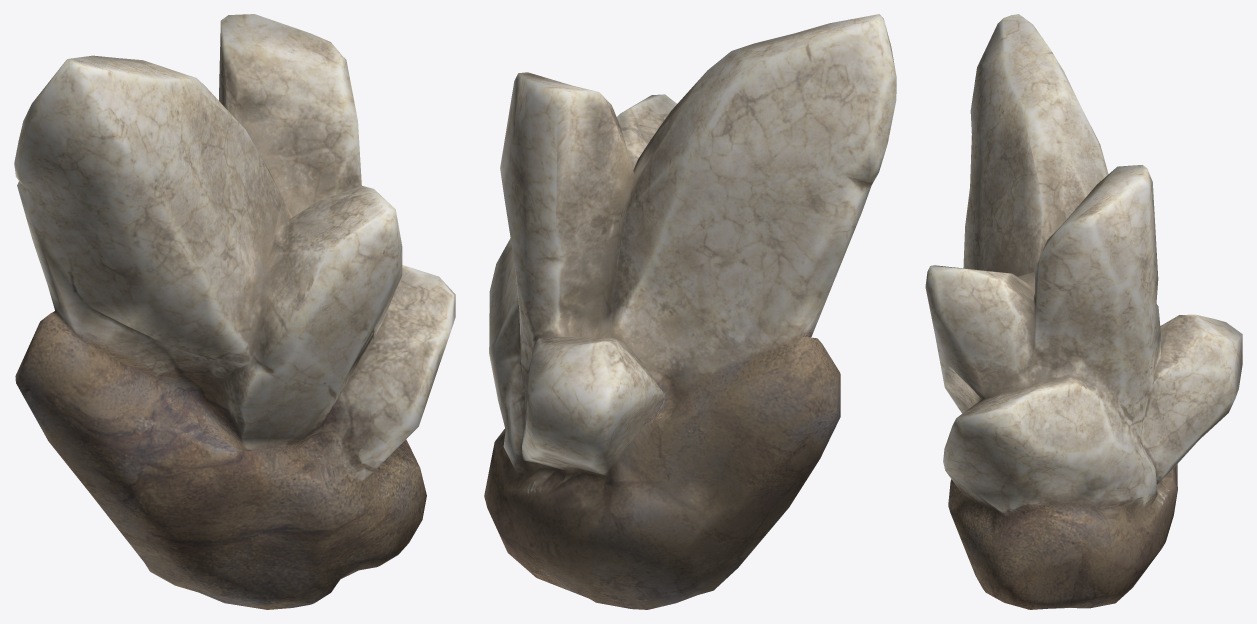
File: SM_StoneNode_6.fbx
The picture shows the model from 3 angles, left to right: view 1: azimuth 30°, elevation 25°; view 2: azimuth 150°, elevation 25°; view 3: azimuth 270°, elevation 25°; orthographic projection. The views are drawn at different scales.
Parts seen in each view (by area): view 1: SM_StoneNode_6_LOD0; view 2: SM_StoneNode_6_LOD0; view 3: SM_StoneNode_6_LOD0.
Boxes of the visible parts, x1=… form: SM_StoneNode_6_LOD0: x1=14, y1=14, x2=455, y2=609; SM_StoneNode_6_LOD0: x1=484, y1=14, x2=896, y2=609; SM_StoneNode_6_LOD0: x1=925, y1=14, x2=1242, y2=609.
Size of what is drawn, in the model's own units: 1.26 by 1.81 by 1.04.
